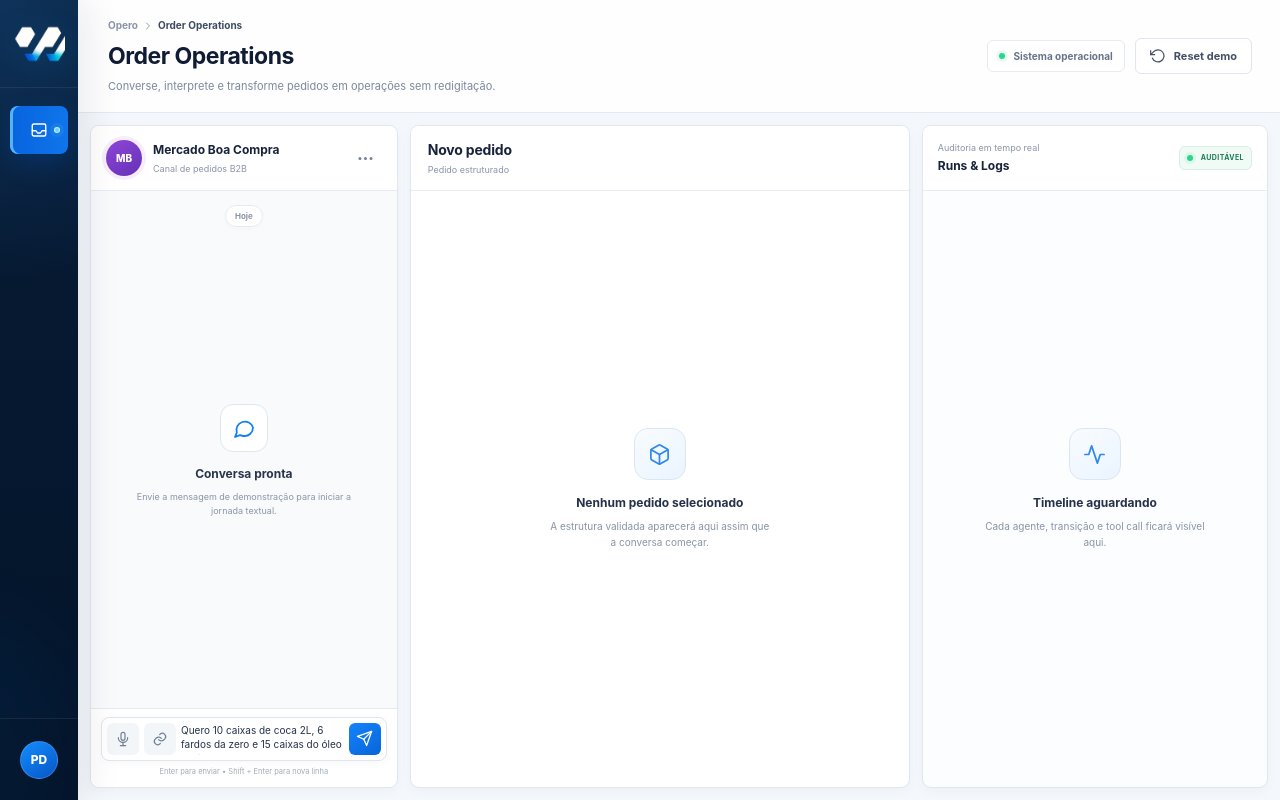
Scenario: console Opero › envia o contrato correto e apresenta ambiguidade, confiança, estoque e auditoria
This screenshot has width=1280, height=800.
Step 1. Click the button named "Enviar mensagem" → (365, 739), box [349,723,381,755]
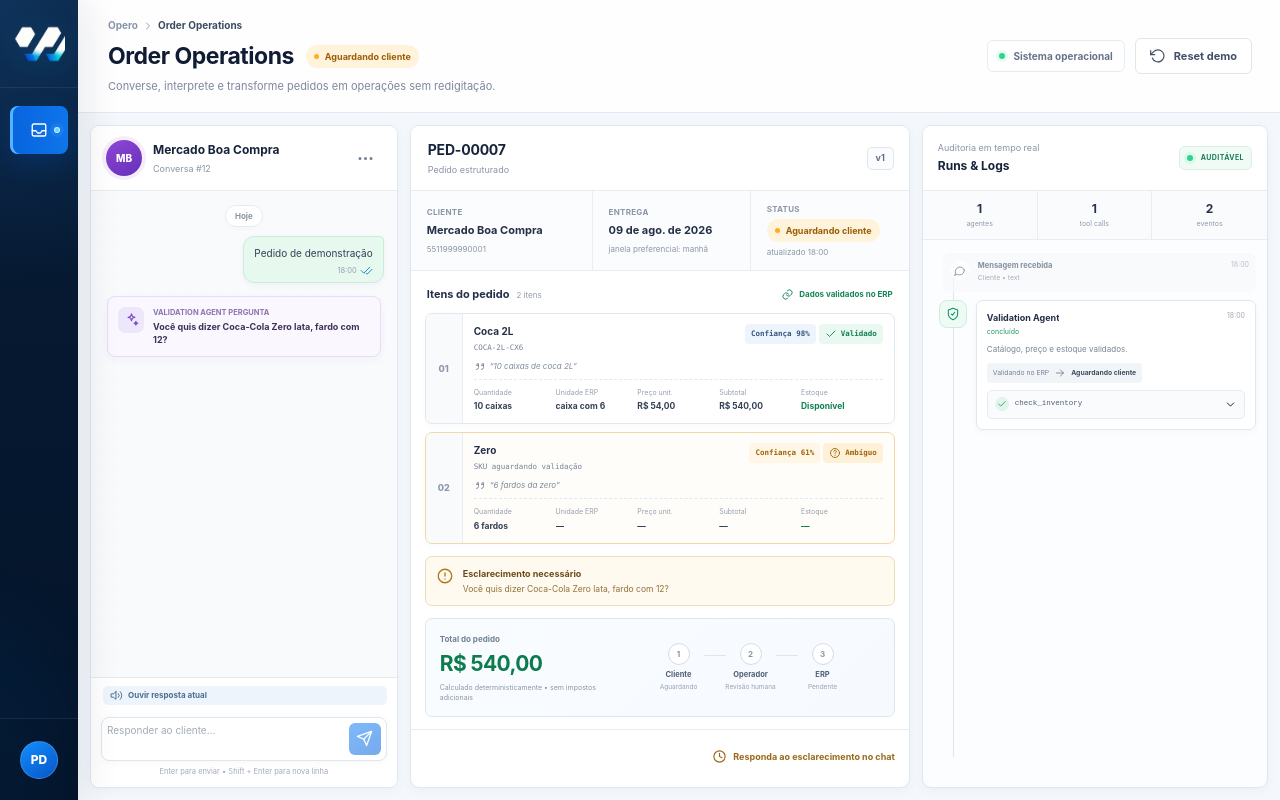
Check: the text "COCA-2L-CX6" is shown, box [474,342,523,353]
Check: the text "Confiança 98%" is shown, box [745,324,816,344]
Check: the text "Disponível" is shown, box [801,401,845,411]
